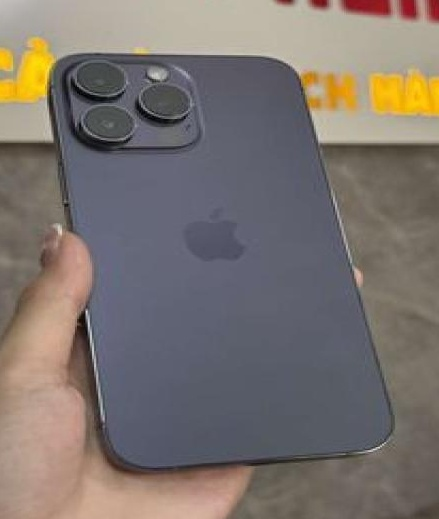scratch: (77, 304, 110, 426), (328, 175, 364, 271)
